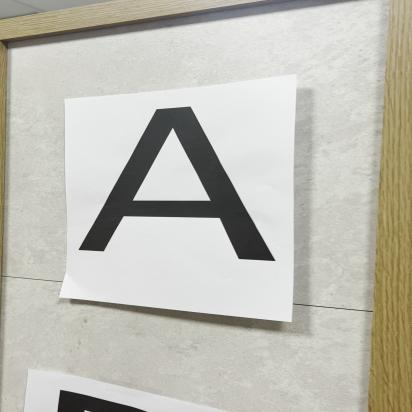seat: (68, 105, 287, 283)
